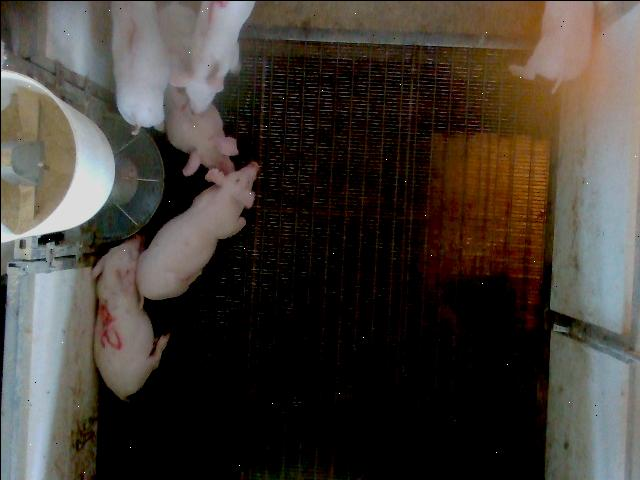pig-1: (110, 2, 169, 130)
pig-3: (164, 84, 238, 174), (158, 2, 195, 71)
pig-4: (170, 0, 254, 111)
pig-5: (91, 234, 169, 401)
